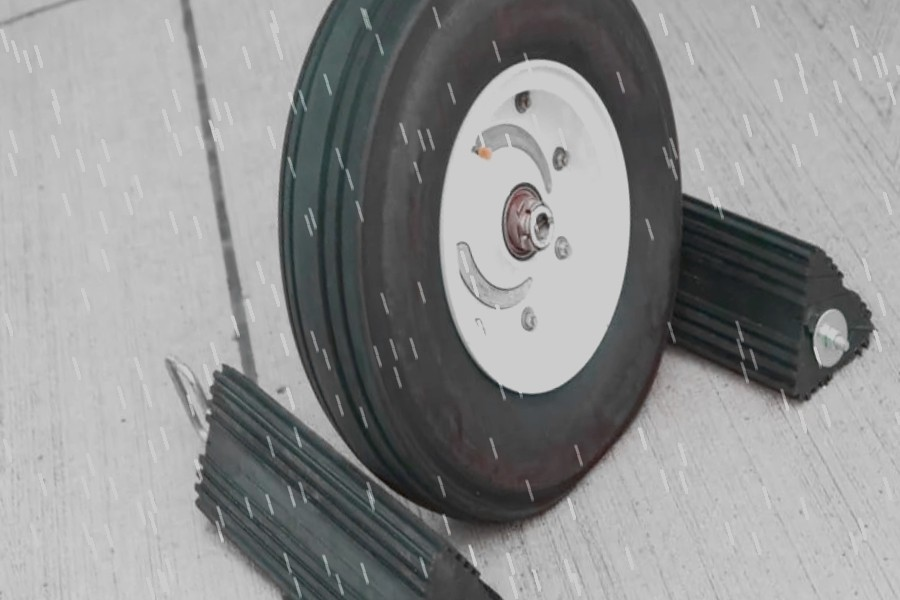chock: (169, 318, 534, 600), (577, 149, 887, 437)
wheel: (232, 0, 735, 549)
